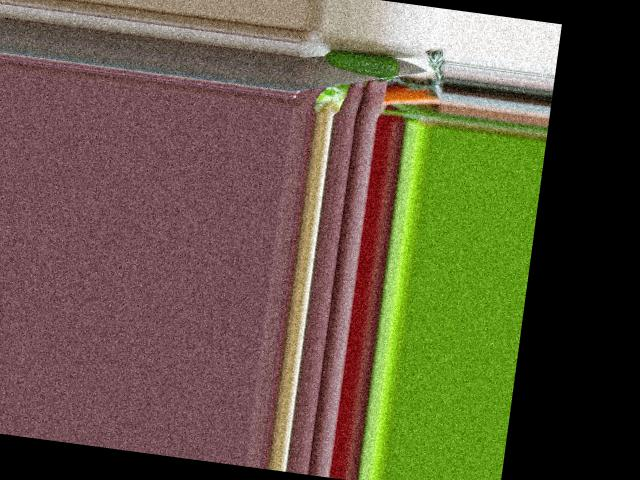cucumber: (324, 47, 402, 79)
